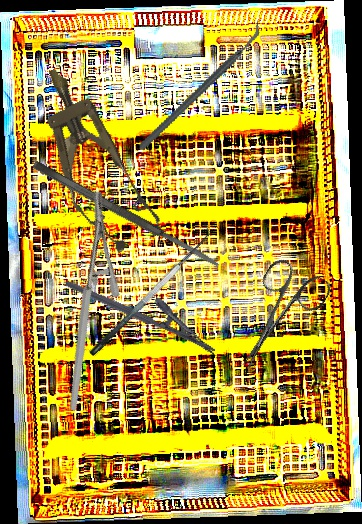Chopper: (111, 19, 290, 153)
Iris Scissors: (219, 252, 334, 385)
Needle Holder: (3, 189, 167, 412), (64, 258, 226, 357)
Spatula Surgical: (31, 158, 222, 272), (78, 220, 220, 359)
Speculum: (18, 54, 168, 262)
